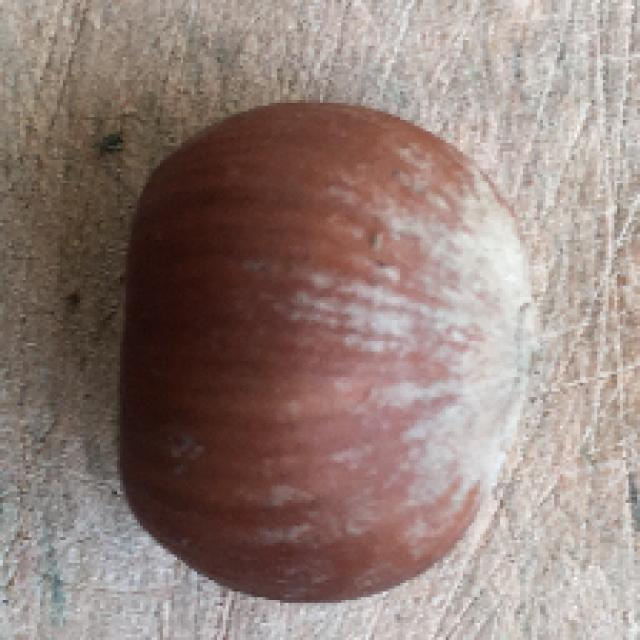qualityHazelnut: (108, 91, 546, 608)
